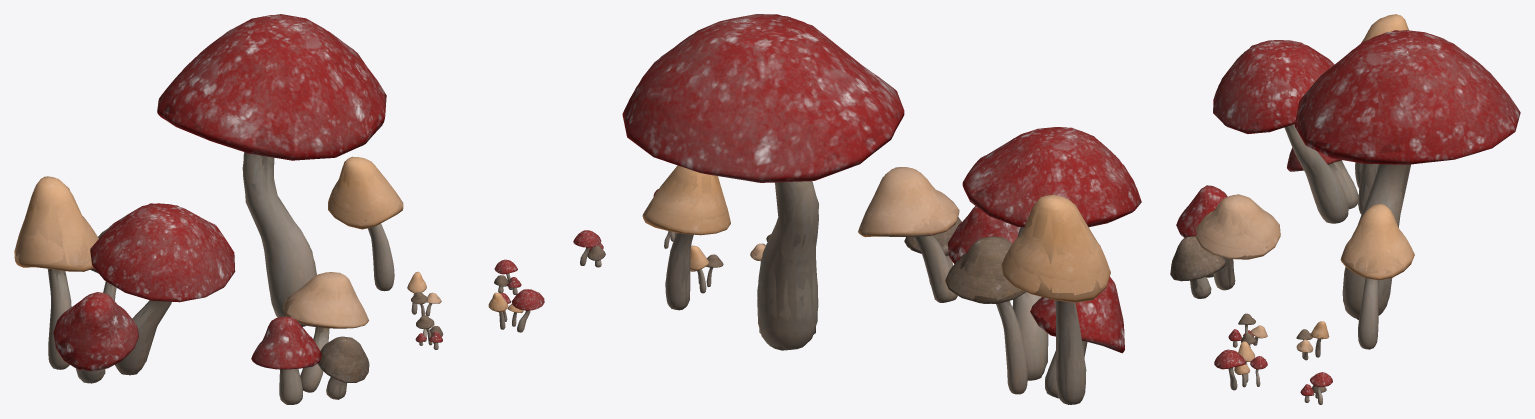
The model's file is Mushrooms_Large_A1.fbx.
3 views of the same model, side by side, from view 1: azimuth 30°, elevation 25°; view 2: azimuth 150°, elevation 25°; view 3: azimuth 270°, elevation 25° (orthographic). The views are drawn at different scales.
Parts seen in each view (by area): view 1: Mushroom_Large_A1, Mushroom_Large_A2, Mushroom_Large_A1.002, Mushroom_Large_A1.001, Mushroom_Large_A2.001, Mushroom_Large_A2.002, Mushroom_Medium_A1, Mushroom_Medium_A1.001, Mushroom_Large_A3, Mushroom_Medium_A1.002, Mushroom_Large_A3.002, Mushroom_Large_A3.001 (+4 smaller); view 2: Mushroom_Large_A1, Mushroom_Large_A2, Mushroom_Large_A2.001, Mushroom_Large_A1.001, Mushroom_Large_A1.002, Mushroom_Large_A2.002, Mushroom_Medium_A1, Mushroom_Medium_A1.001, Mushroom_Large_A3, Mushroom_Medium_A1.002, Mushroom_Large_A3.001, Mushroom_Large_A3.002 (+2 smaller); view 3: Mushroom_Large_A1, Mushroom_Large_A1.001, Mushroom_Large_A2, Mushroom_Large_A1.002, Mushroom_Medium_A1, Mushroom_Large_A2.001, Mushroom_Large_A2.002, Mushroom_Medium_A1.001, Mushroom_Large_A3, Mushroom_Medium_A1.002, Mushroom_Large_A3.001, Mushroom_Large_A3.002 (+9 smaller).
Boxes of the visible parts, x1,y1,x2,y2 form: Mushroom_Large_A1: (157, 15, 385, 326); Mushroom_Large_A2: (15, 176, 234, 383); Mushroom_Large_A1.002: (157, 14, 383, 316); Mushroom_Large_A1.001: (157, 14, 386, 326); Mushroom_Large_A2.001: (18, 176, 234, 383); Mushroom_Large_A2.002: (14, 176, 235, 382); Mushroom_Medium_A1: (251, 272, 369, 404); Mushroom_Medium_A1.001: (251, 272, 369, 404); Mushroom_Large_A3: (328, 157, 403, 290); Mushroom_Medium_A1.002: (252, 272, 368, 404); Mushroom_Large_A3.002: (331, 156, 402, 290); Mushroom_Large_A3.001: (328, 157, 403, 287); Mushroom_Large_A1: (622, 15, 904, 349); Mushroom_Large_A2: (945, 127, 1141, 404); Mushroom_Large_A2.001: (947, 127, 1141, 404); Mushroom_Large_A1.001: (622, 15, 904, 349); Mushroom_Large_A1.002: (640, 14, 894, 350); Mushroom_Large_A2.002: (944, 127, 1141, 404); Mushroom_Medium_A1: (858, 167, 1020, 302); Mushroom_Medium_A1.001: (858, 167, 1020, 303); Mushroom_Large_A3: (642, 165, 730, 309); Mushroom_Medium_A1.002: (859, 167, 1011, 303); Mushroom_Large_A3.001: (643, 171, 730, 309); Mushroom_Large_A3.002: (643, 165, 725, 310); Mushroom_Large_A1: (1295, 30, 1520, 318); Mushroom_Large_A1.001: (1296, 30, 1520, 317); Mushroom_Large_A2: (1213, 14, 1408, 223); Mushroom_Large_A1.002: (1294, 30, 1505, 320); Mushroom_Medium_A1: (1170, 185, 1280, 298); Mushroom_Large_A2.001: (1213, 15, 1406, 223); Mushroom_Large_A2.002: (1219, 14, 1406, 223); Mushroom_Medium_A1.001: (1171, 185, 1280, 295); Mushroom_Large_A3: (1341, 204, 1414, 348); Mushroom_Medium_A1.002: (1171, 185, 1280, 298); Mushroom_Large_A3.001: (1340, 204, 1414, 349); Mushroom_Large_A3.002: (1345, 203, 1414, 349).
Bounding box in the file's own units: 1371 × 793 × 906.
